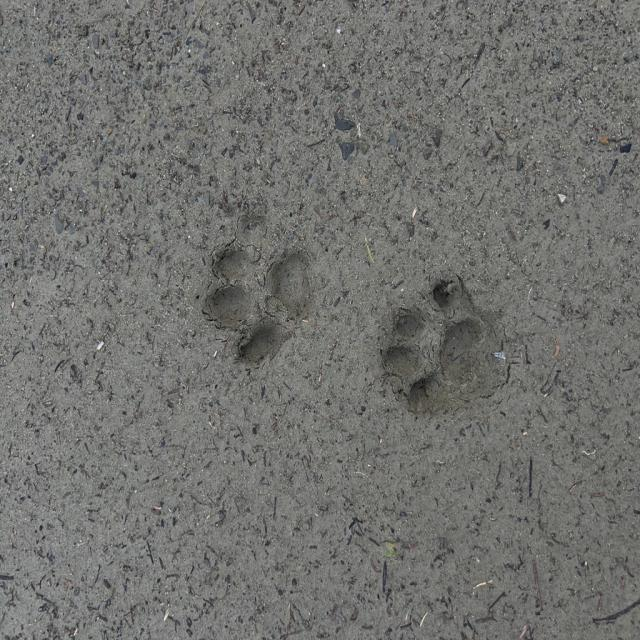felid: (209, 213, 312, 348), (388, 283, 488, 399)
